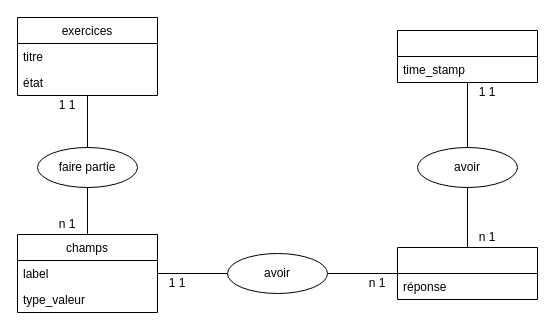
Image size: 555x333. Some labels were removed from this diagram. The shapes that lost their labels are listed below. From the top down, each one's box as (x1, y1, x2, y2) in pixels, then its label:
(396, 30, 538, 82): entrées
(396, 246, 538, 300): réponses
